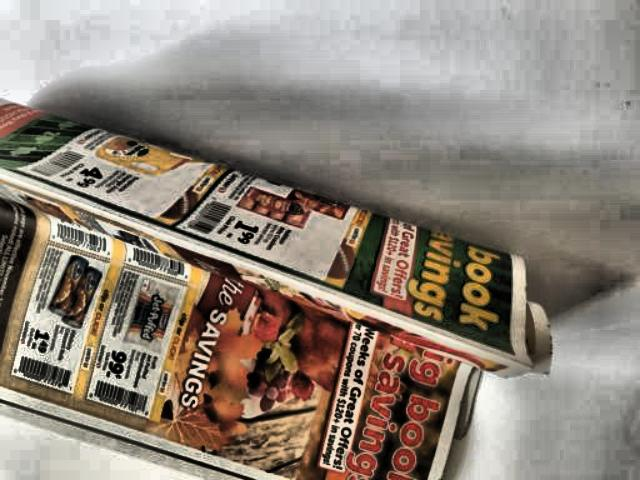Paper: (0, 96, 555, 479)
